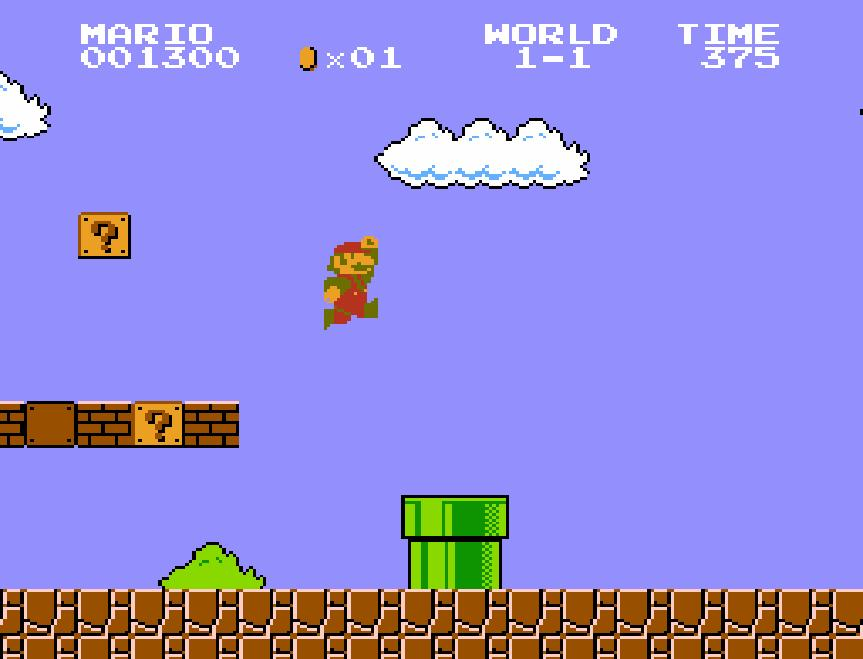big_mario: (322, 233, 380, 331)
